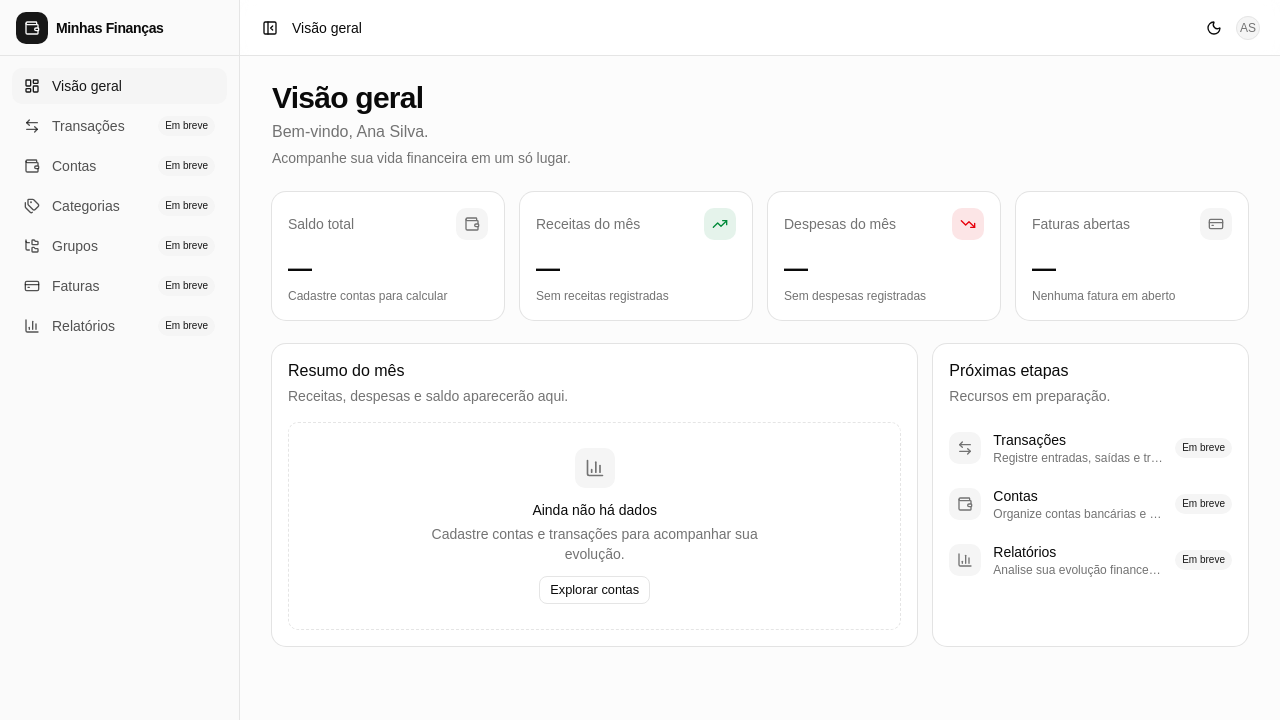
Test case: App shell › collapses the sidebar and persists the preference
The image size is (1280, 720).
Click the button named "Recolher menu" at (270, 28), box left=256, top=14, right=284, bottom=42
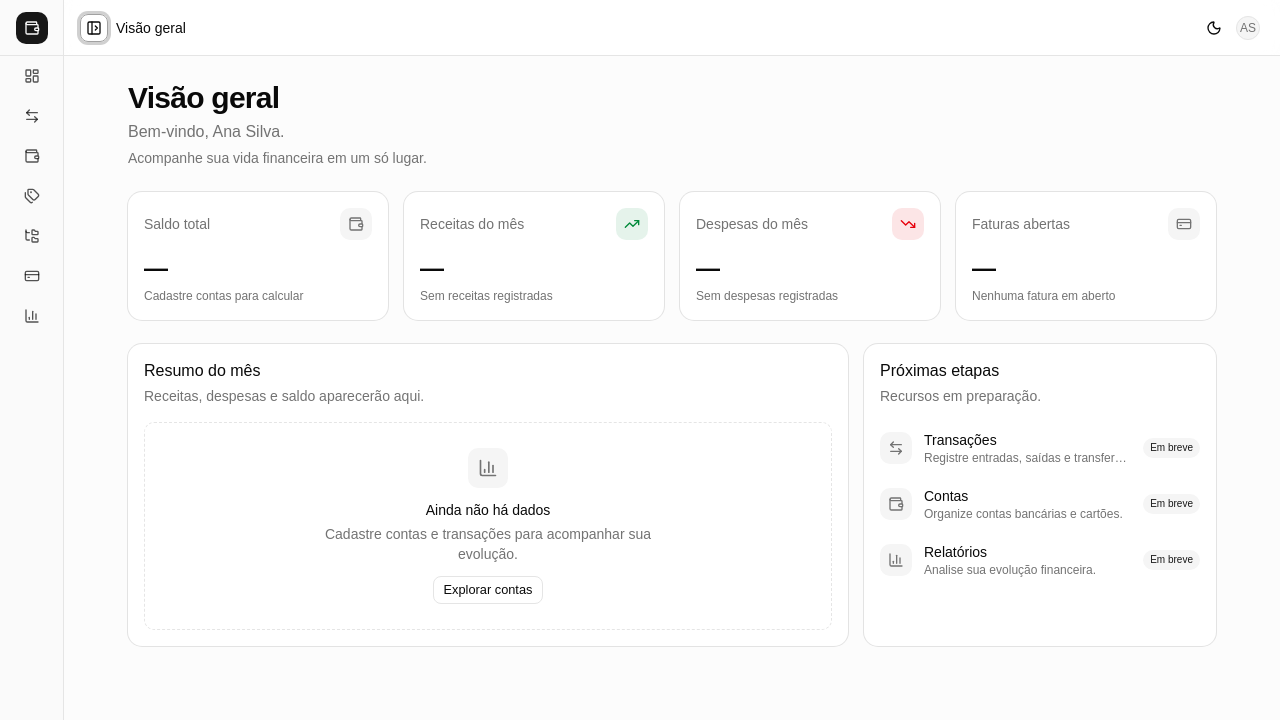
Check: the button named "Expandir menu" is shown, box left=80, top=14, right=108, bottom=42
